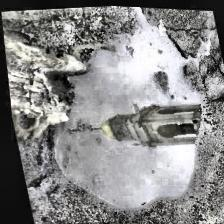pothole: (16, 1, 224, 221)
